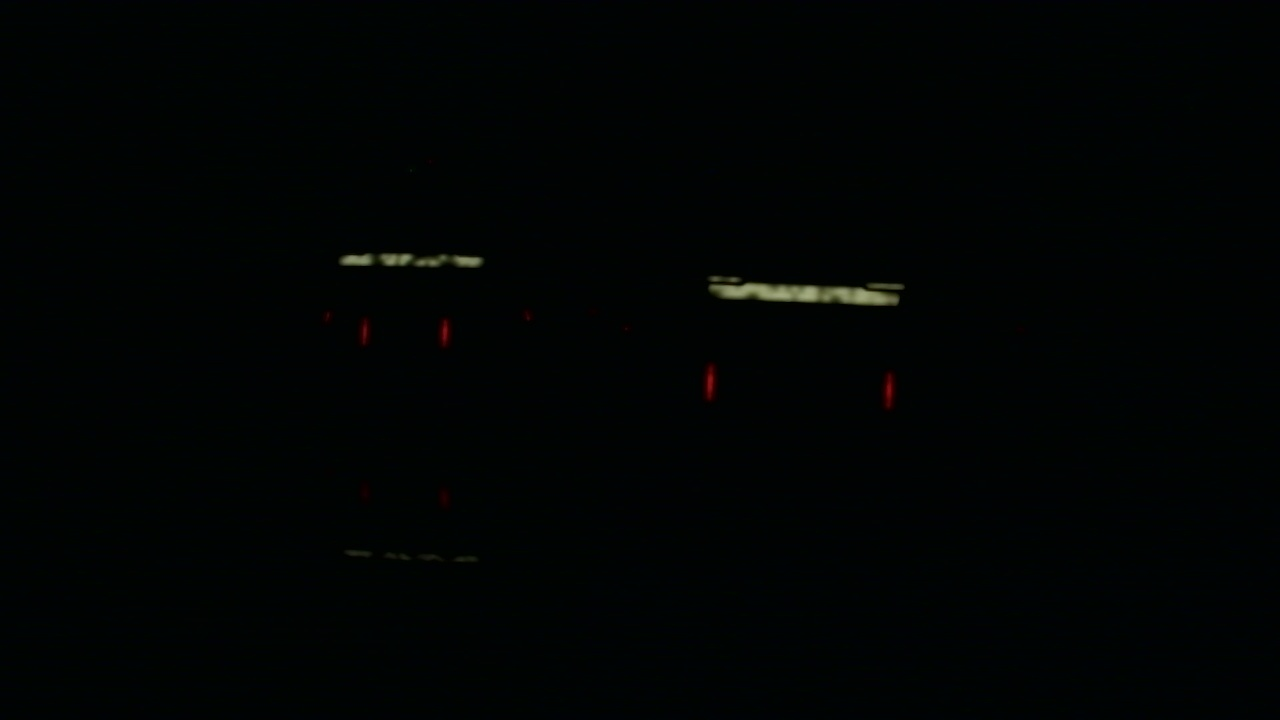lamp: (703, 362, 717, 403), (882, 371, 893, 412), (361, 318, 369, 343), (440, 317, 447, 342)
pair1: (361, 319, 448, 344)
pair2: (703, 363, 894, 414)
